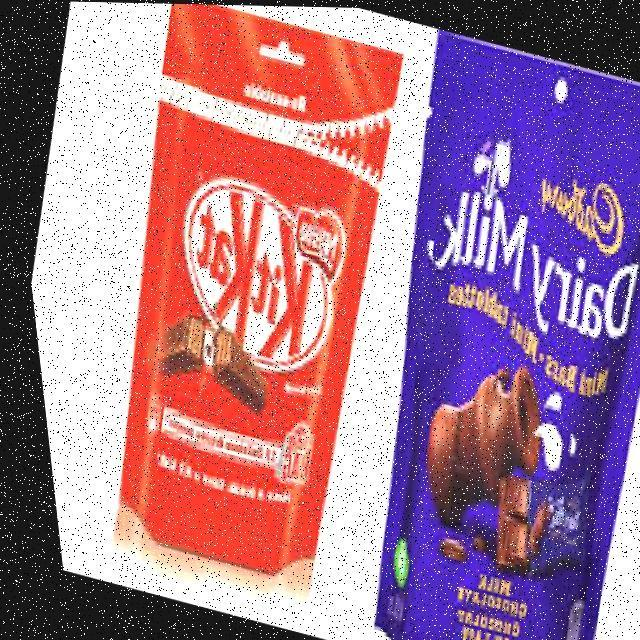cadbury_chocolate: (426, 35, 640, 640)
kitkat_chocolate: (120, 14, 390, 578)
